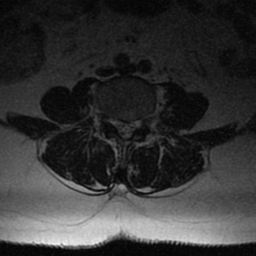CCS_normal: (121, 114, 129, 146)
LFS_normal: (137, 110, 144, 134)
LLS_normal: (128, 114, 137, 138)
RFS_normal: (107, 109, 114, 131)
RLS_normal: (114, 112, 122, 139)
